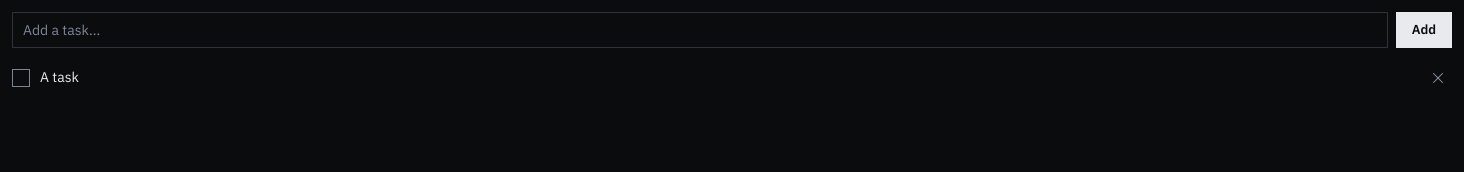
it: editing a todo › surfaces a failed edit
Click the button "A task" at [59, 77], box [36, 66, 1418, 90]
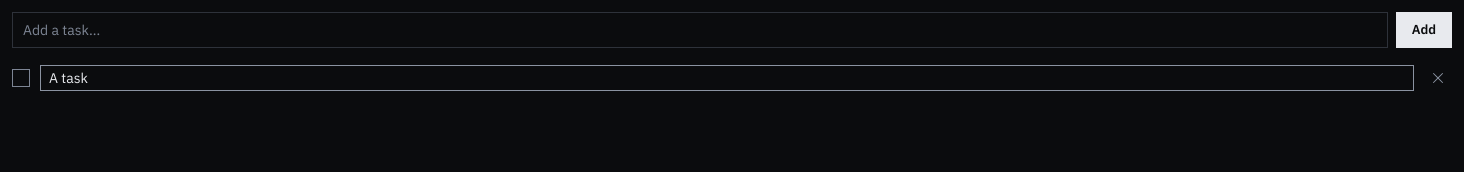
Type "!" into the field named "Edit \"A task\"" at [727, 78], box [40, 65, 1414, 91]
Then press Enter
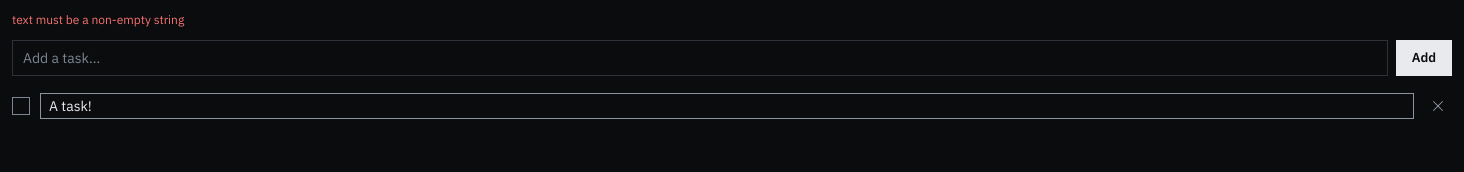
Now the text "text must be a non-empty string" is shown, box [12, 12, 184, 27]
